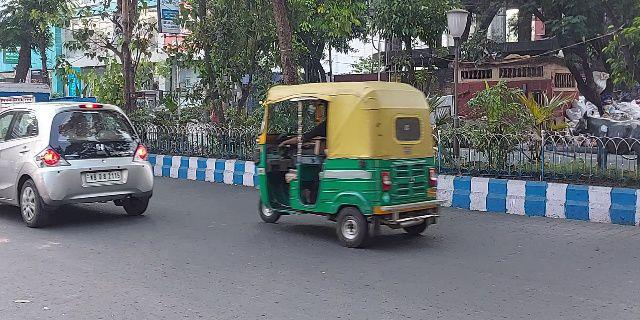Autorickshaw: (250, 81, 444, 251)
Car: (1, 98, 155, 229)
